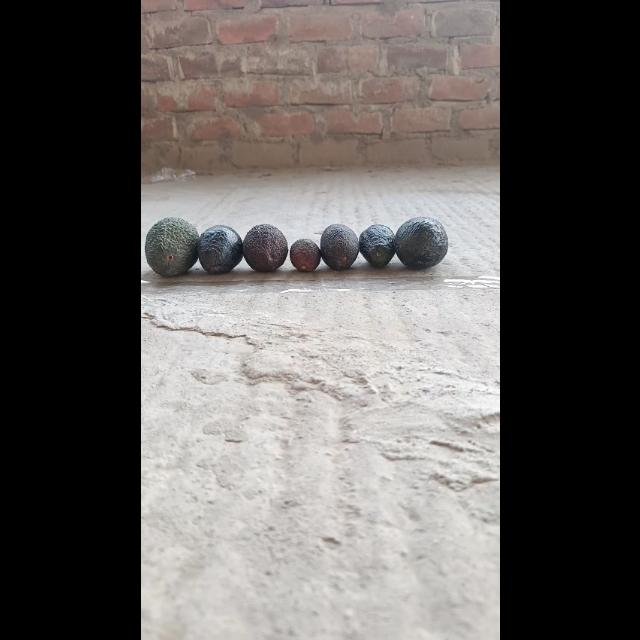Primera: (142, 218, 198, 276), (394, 215, 448, 269)
Segunda: (196, 226, 242, 274), (241, 224, 287, 272), (318, 223, 358, 270), (357, 224, 395, 268)
Tercera: (288, 238, 320, 272)
